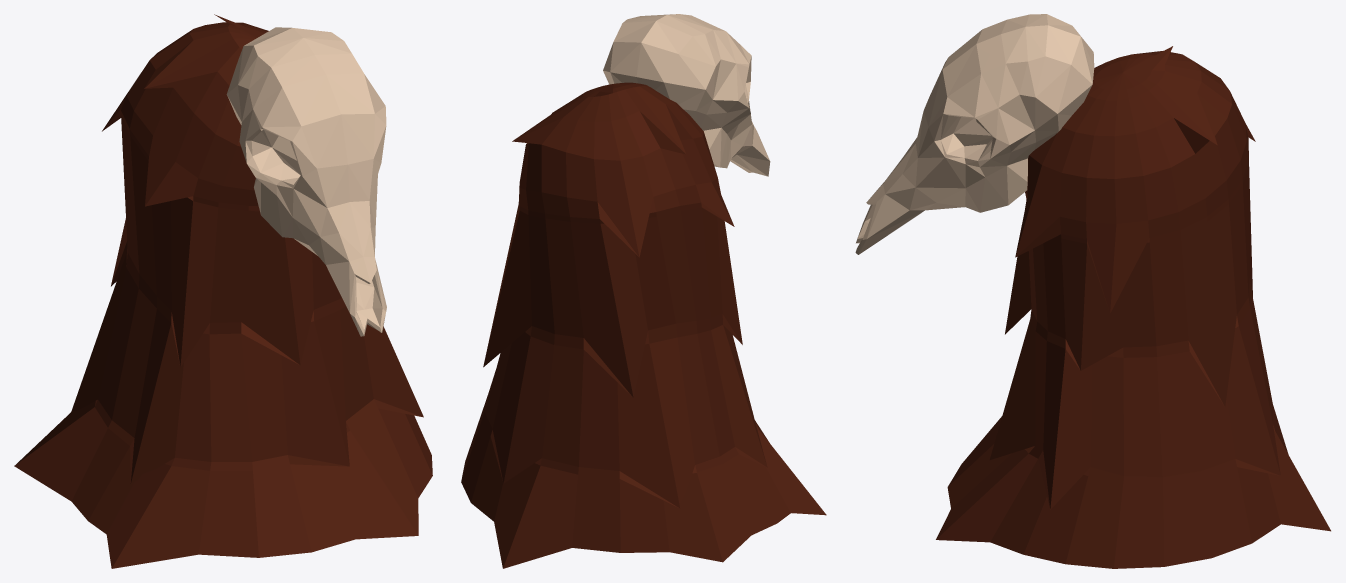
Rendered from LittleMinion.fbx.
3 renders of one model, left to right at view 1: azimuth 30°, elevation 25°; view 2: azimuth 150°, elevation 25°; view 3: azimuth 270°, elevation 25°, orthographic. The views are drawn at different scales.
Parts seen in each view (by area): view 1: Cylinder.001; view 2: Cylinder.001; view 3: Cylinder.001.
Part boxes in pixels (x1,y1,x2,y2): Cylinder.001: (14, 14, 432, 568); Cylinder.001: (461, 14, 826, 568); Cylinder.001: (855, 14, 1330, 568).
Bounding box in the file's own units: 174 × 244 × 213.
